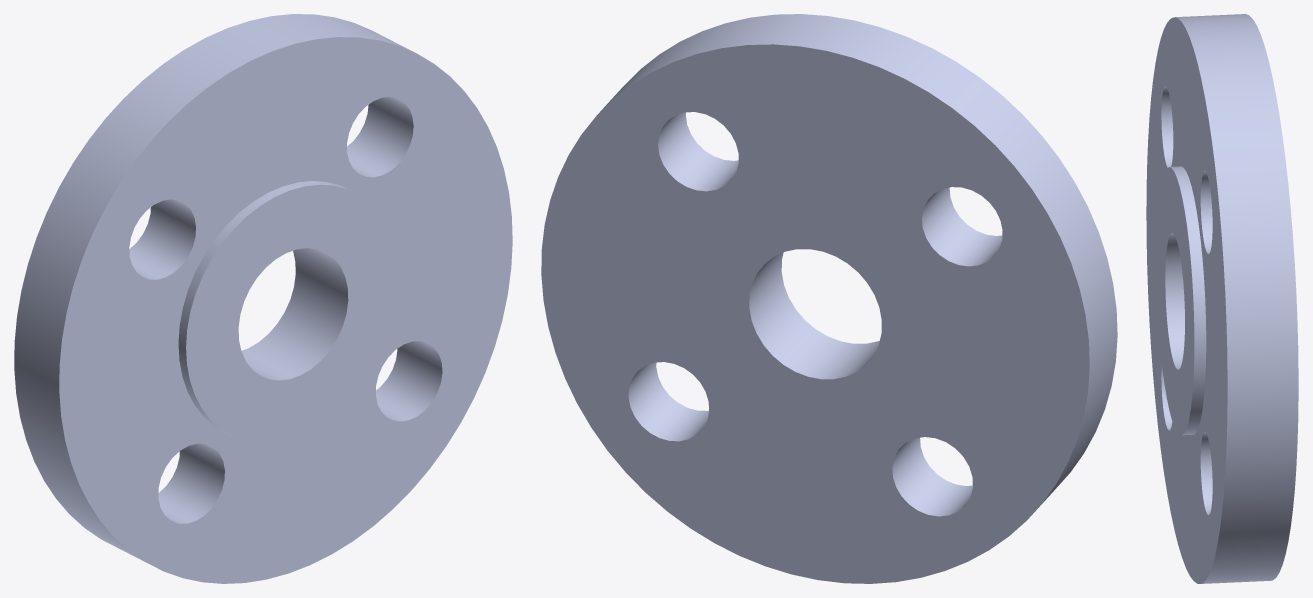
File: 板式平焊钢制管法兰1.obj
3 renders of one model, left to right at view 1: azimuth 30°, elevation 25°; view 2: azimuth 150°, elevation 25°; view 3: azimuth 270°, elevation 25°, orthographic. The views are drawn at different scales.
Parts seen in each view (by area): view 1: BRep_1; view 2: BRep_1; view 3: BRep_1.
Boxes of the visible parts, bbox=[...] form: BRep_1: bbox=[14, 14, 512, 583]; BRep_1: bbox=[541, 14, 1117, 583]; BRep_1: bbox=[1146, 14, 1298, 583].
Size of the model in its own units: 95.71 by 95.14 by 25.45.
